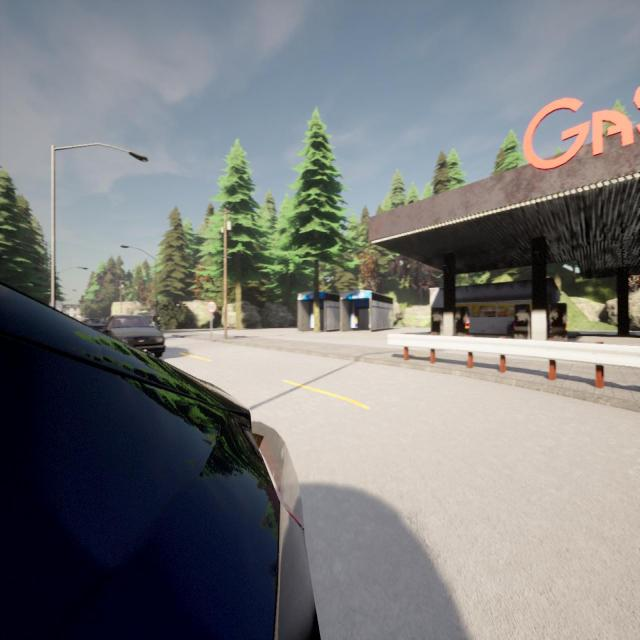Traffic_Signs: (206, 302, 217, 312)
Vehicle: (0, 286, 316, 640), (106, 314, 165, 356), (83, 318, 106, 336)
